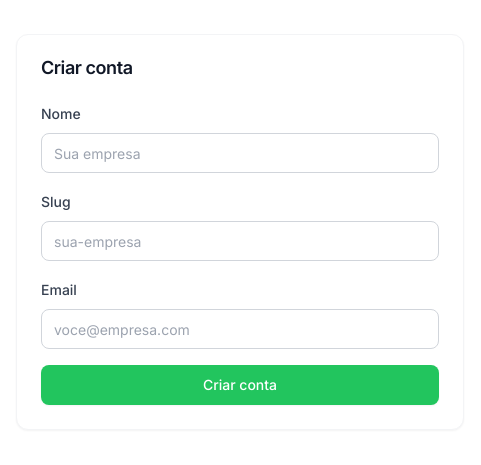
RegisterPage › mostra a mensagem de erro da API quando a requisição falha (ex: 409 slug duplicado)
The image size is (481, 465).
Type "Test Tenant" into the field labelled "Nome". click: (240, 153)
box: [41, 133, 439, 173]
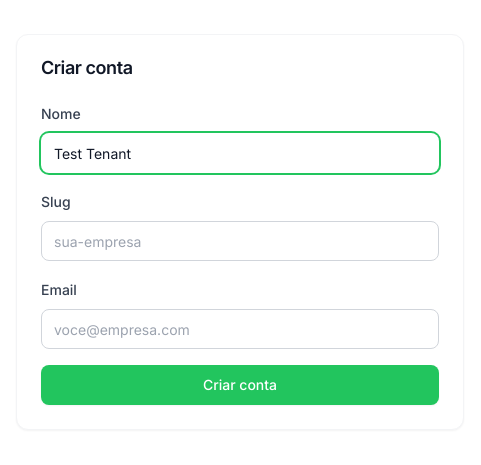
Type "test-tenant" into the field labelled "Slug". click: (240, 241)
box: [41, 221, 439, 261]
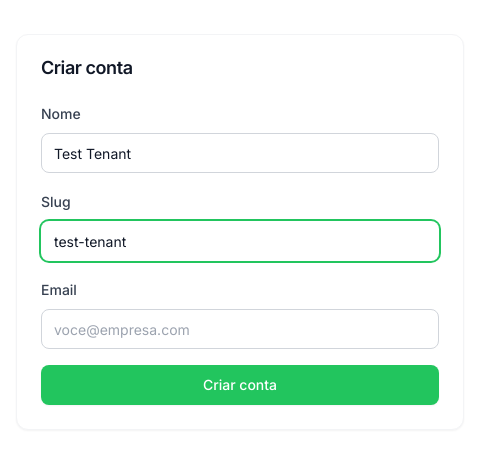
Type "tenant@example.com" into the field labelled "Email". click: (240, 329)
box: [41, 309, 439, 349]
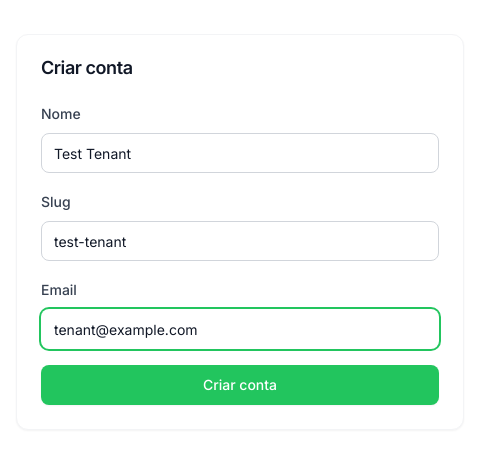
Click the button "Criar conta". click: click(240, 385)
box: [41, 365, 439, 405]
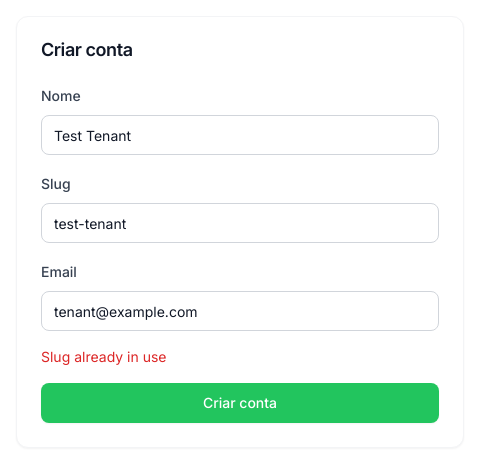
Now the text "Slug already in use" is shown, box [41, 348, 166, 365]
